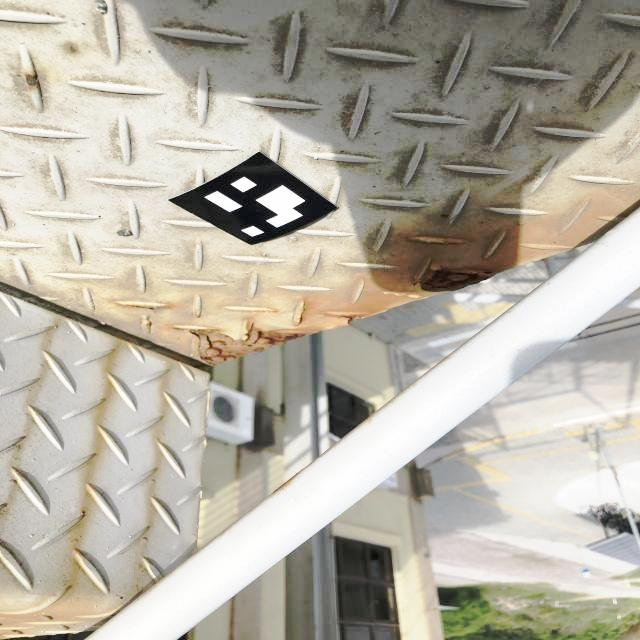Corrosion: (168, 314, 369, 365), (416, 267, 500, 294), (21, 71, 42, 87), (126, 304, 173, 311)
